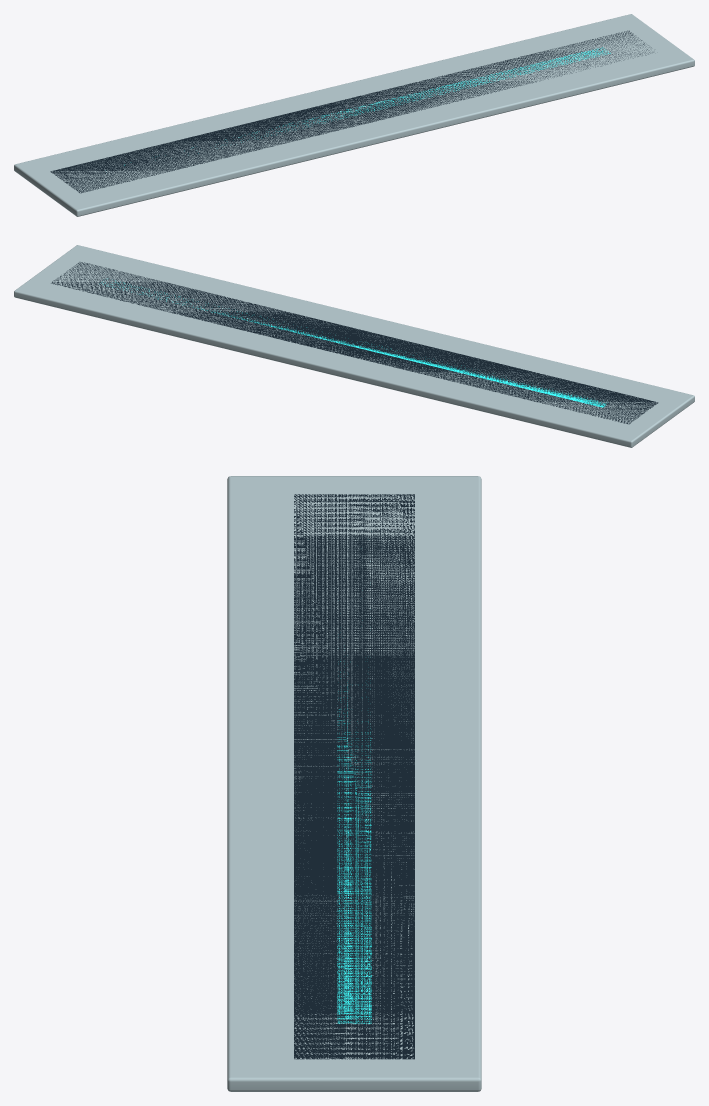
Rendered from SM_TestArena_DividerSocket.glb.
3 views of the same model, one above another, from view 1: azimuth 30°, elevation 25°; view 2: azimuth 150°, elevation 25°; view 3: azimuth 270°, elevation 25° (orthographic). The views are drawn at different scales.
Parts seen in each view (by area): view 1: SM_TestArena_DividerSocket; view 2: SM_TestArena_DividerSocket; view 3: SM_TestArena_DividerSocket.
Part boxes in pixels (x1,y1,x2,y2): SM_TestArena_DividerSocket: (14, 14, 694, 216); SM_TestArena_DividerSocket: (14, 245, 694, 447); SM_TestArena_DividerSocket: (227, 476, 481, 1091).
Size of the model in its own units: 1.46 by 0.016 by 0.26.
